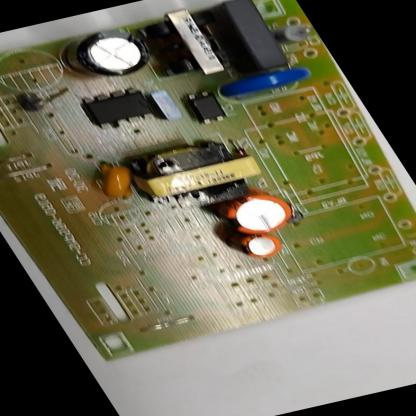Cap1: (214, 187, 301, 238)
Cap2: (235, 232, 286, 260)
Cap3: (58, 26, 158, 80)
MOSFET: (80, 86, 157, 131)
Mov: (222, 64, 316, 100)
Resistor: (273, 20, 320, 48)
Transformer: (122, 136, 270, 210), (134, 4, 240, 81)
